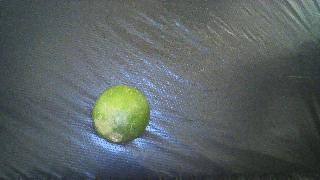DESECHO: (92, 85, 150, 144)
